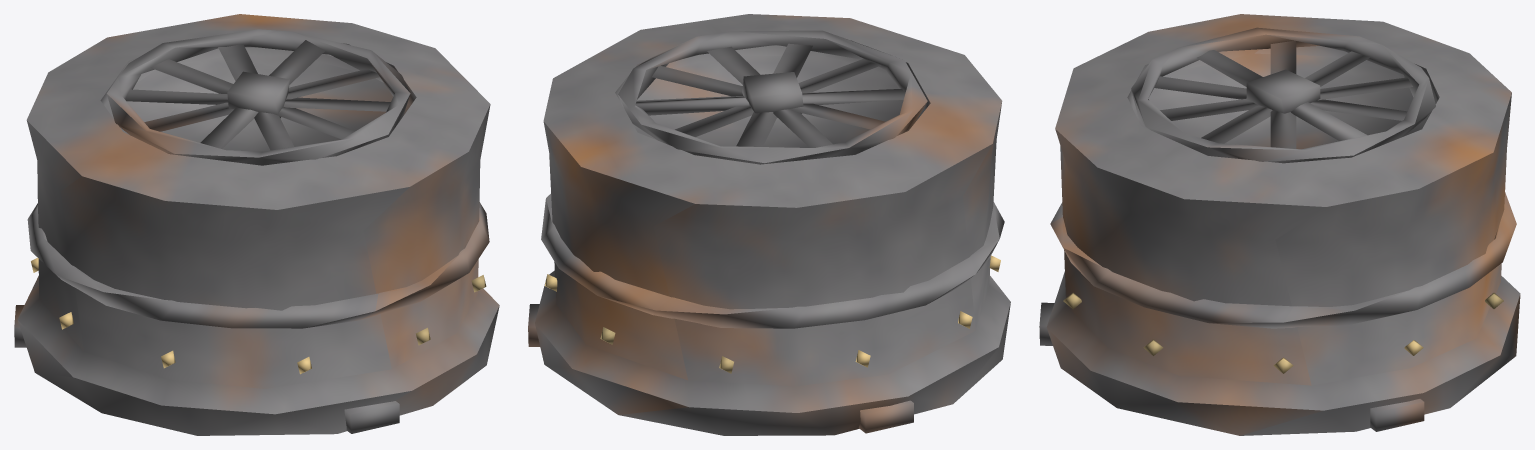
File: furnace_vent_lod1.gltf
3 renders of one model, left to right at view 1: azimuth 30°, elevation 25°; view 2: azimuth 150°, elevation 25°; view 3: azimuth 270°, elevation 25°, orthographic.
Visible parts, largest first — view 1: furnace_vent_LOD1; view 2: furnace_vent_LOD1; view 3: furnace_vent_LOD1.
Part boxes in pixels (left/top/right/bottom): furnace_vent_LOD1: left=14, top=14, right=499, bottom=435; furnace_vent_LOD1: left=528, top=14, right=1010, bottom=435; furnace_vent_LOD1: left=1039, top=14, right=1520, bottom=435.
Size of the model in its own units: 0.9831 by 0.5801 by 0.9979.
1 material, 1 textured.
